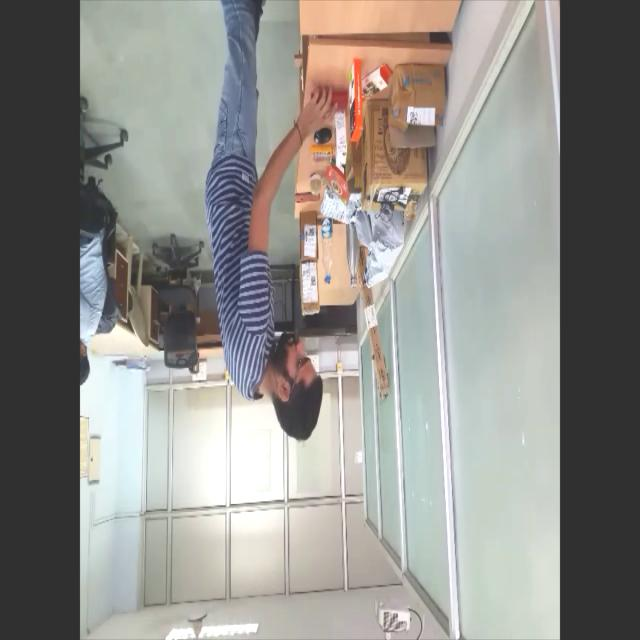normal: (199, 0, 335, 451)
